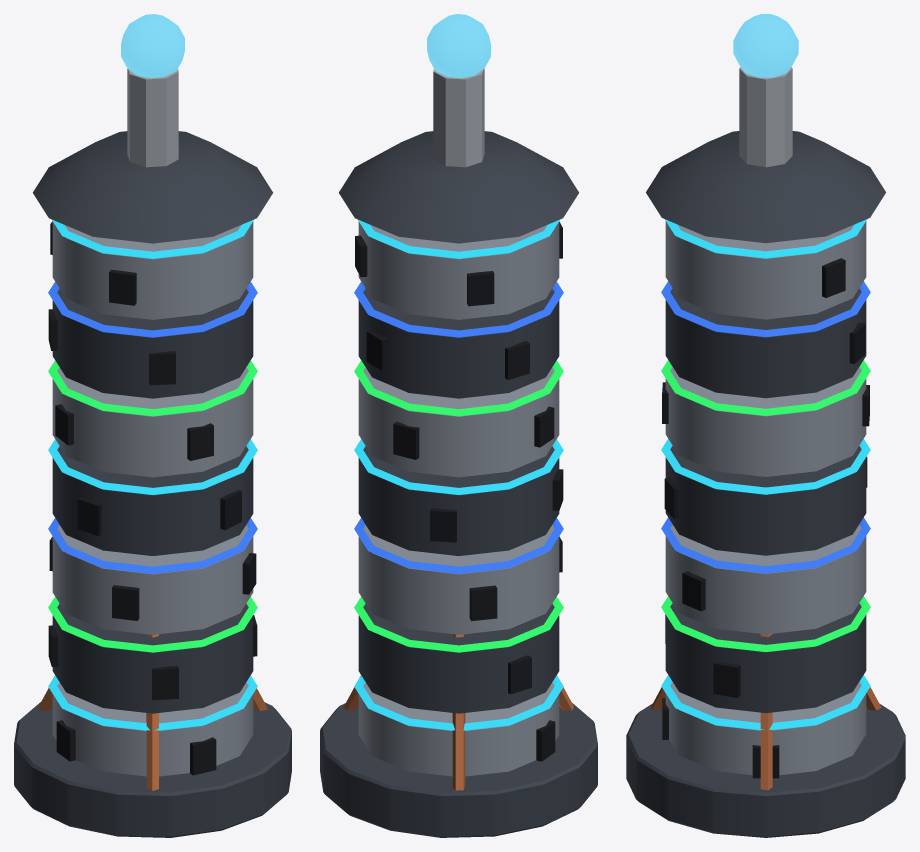
The model's file is storage_memory_core_column.glb.
3 renders of one model, left to right at view 1: azimuth 30°, elevation 25°; view 2: azimuth 150°, elevation 25°; view 3: azimuth 270°, elevation 25°, orthographic.
Parts seen in each view (by area): view 1: storage_memory_core_column; view 2: storage_memory_core_column; view 3: storage_memory_core_column.
Boxes of the visible parts, <box> form: storage_memory_core_column: <box>14,14,291,837</box>; storage_memory_core_column: <box>320,14,597,837</box>; storage_memory_core_column: <box>626,14,905,837</box>.
Bounding box in the file's own units: 0.8369 × 2.52 × 0.8369.
